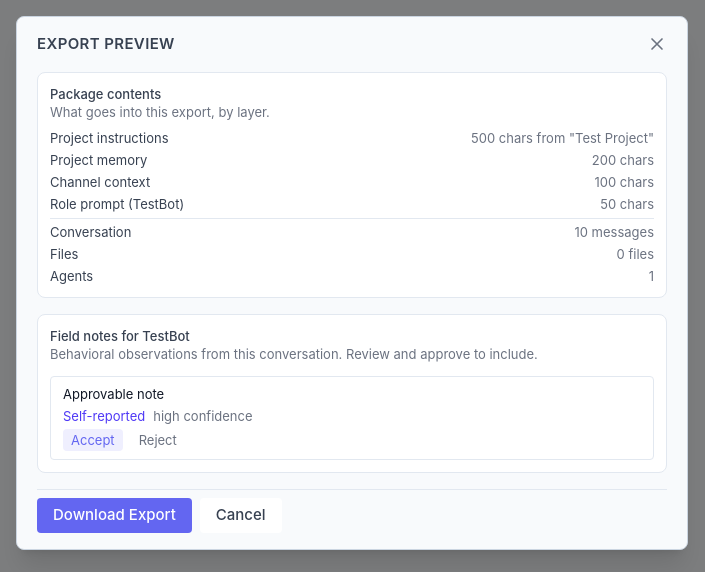
Test: NoteCard interactions › Accept button transitions note to approved state
The image size is (705, 572).
Click the button "Accept": (93, 440) [63,429,123,451]
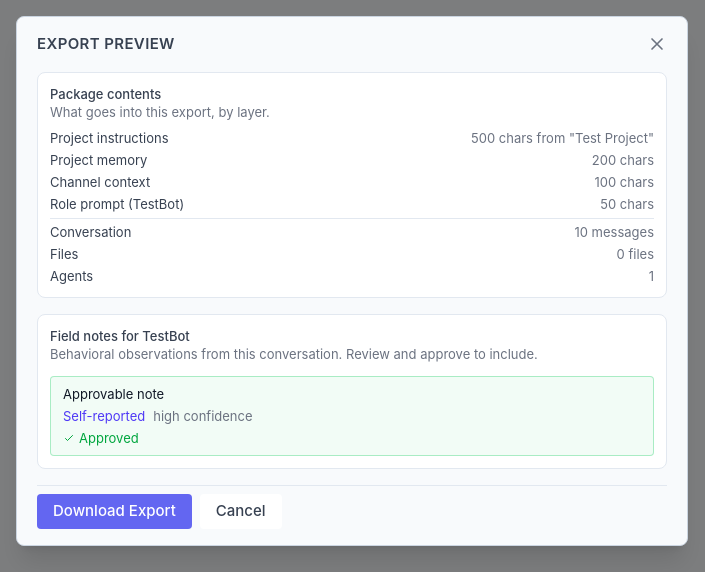
Result: the text "Approved" is shown at [63,430,139,446]
Result: the button "Accept" is gone
